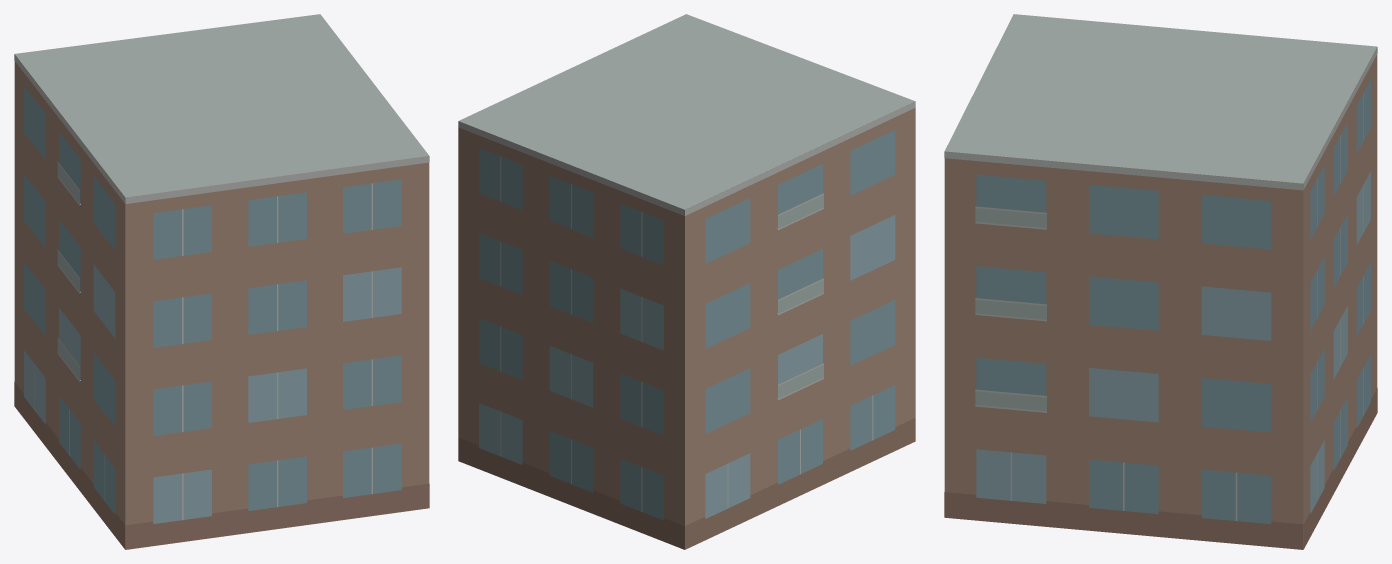
The model's file is survey-upis-32951559.glb.
3 views of the same model, side by side, from view 1: azimuth 30°, elevation 25°; view 2: azimuth 150°, elevation 25°; view 3: azimuth 270°, elevation 25° (orthographic). The views are drawn at different scales.
Visible parts, largest first — view 1: survey-upis-32951559.tmp; view 2: survey-upis-32951559.tmp; view 3: survey-upis-32951559.tmp.
Part boxes in pixels (bbox=[...]): survey-upis-32951559.tmp: bbox=[14, 14, 429, 549]; survey-upis-32951559.tmp: bbox=[458, 14, 915, 549]; survey-upis-32951559.tmp: bbox=[944, 14, 1377, 549].
Bounding box in the file's own units: 13.02 × 13.1 × 14.05.
